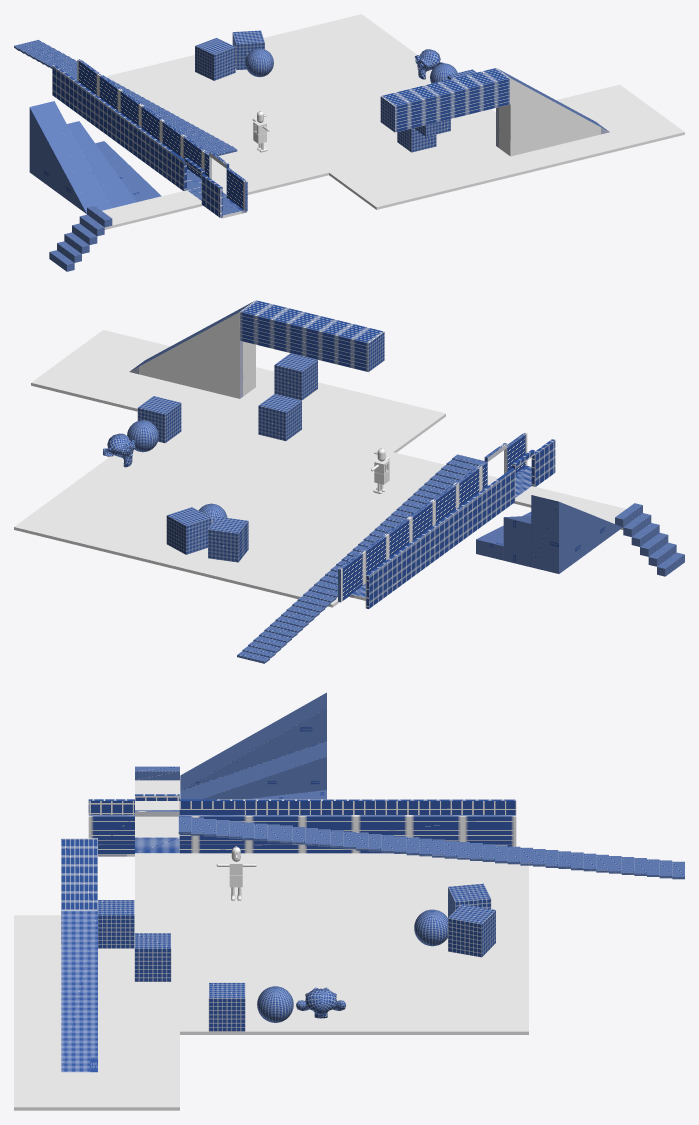
Rendered from alphamap.fbx.
The picture shows the model from 3 angles, top to bottom: view 1: azimuth 30°, elevation 25°; view 2: azimuth 150°, elevation 25°; view 3: azimuth 270°, elevation 25°; orthographic projection. The views are drawn at different scales.
Visible parts, largest first — view 1: Plane, Cube.002, Cube.006, Plane.003, Plane.004, Cube.001, Cube.009, Cube, Plane.002, Cube.008, Plane.001, Cube.007 (+4 smaller); view 2: Plane, Cube.002, Cube.006, Plane.004, Cube.009, Cube.001, Plane.003, Cube, Cube.004, Cube.005, Cube.007, Cube.008 (+6 smaller); view 3: Plane, Cube.001, Cube.009, Cube.002, Plane.004, Plane.003, Plane.002, Cube.006, Cube.007, Cube.003, Cube.004, Cube.005 (+6 smaller).
Part boxes in pixels (x1,y1,x2,y2): Plane: [102, 14, 684, 229]; Cube.002: [52, 65, 222, 217]; Cube.006: [380, 68, 510, 132]; Plane.003: [29, 101, 111, 213]; Plane.004: [496, 68, 609, 156]; Cube.001: [77, 59, 247, 211]; Cube.009: [14, 39, 237, 155]; Cube: [49, 205, 112, 271]; Plane.002: [67, 121, 136, 208]; Cube.008: [195, 38, 235, 80]; Plane.001: [95, 141, 161, 202]; Cube.007: [232, 30, 264, 70]; Plane: [14, 330, 625, 607]; Cube.002: [365, 439, 555, 608]; Cube.006: [240, 300, 384, 371]; Plane.004: [129, 301, 255, 398]; Cube.009: [237, 454, 484, 663]; Cube.001: [338, 432, 527, 602]; Plane.003: [531, 495, 622, 573]; Cube: [615, 503, 684, 576]; Cube.004: [258, 394, 301, 441]; Cube.005: [274, 353, 317, 400]; Cube.007: [166, 507, 211, 554]; Cube.008: [208, 516, 248, 562]; Plane: [14, 780, 528, 1110]; Cube.001: [88, 810, 516, 854]; Cube.009: [178, 816, 684, 879]; Cube.002: [88, 794, 516, 814]; Plane.004: [61, 910, 97, 1072]; Plane.003: [180, 692, 326, 790]; Plane.002: [180, 741, 326, 799]; Cube.006: [61, 838, 97, 943]; Cube.007: [448, 904, 495, 957]; Cube.003: [208, 982, 245, 1031]; Cube.004: [134, 933, 171, 981]; Cube.005: [98, 900, 134, 948].
Bounding box in the file's own units: 91.57 × 17.4 × 73.09.
2 materials, 2 textured.
